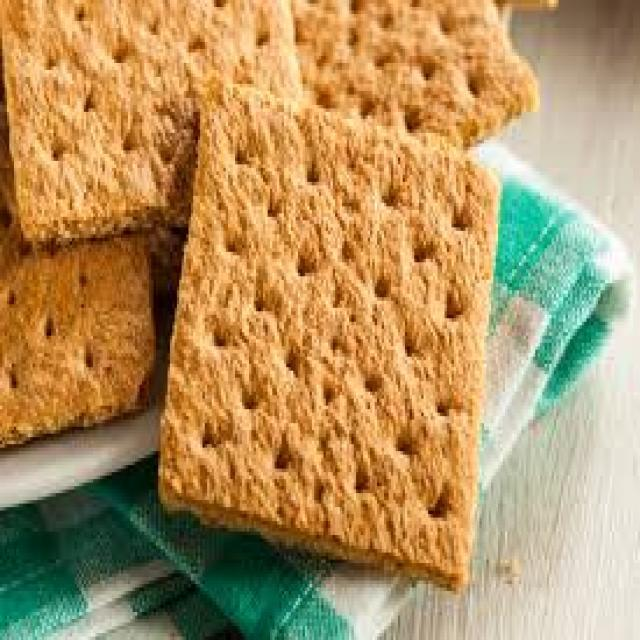Cracker: (151, 70, 525, 602)
